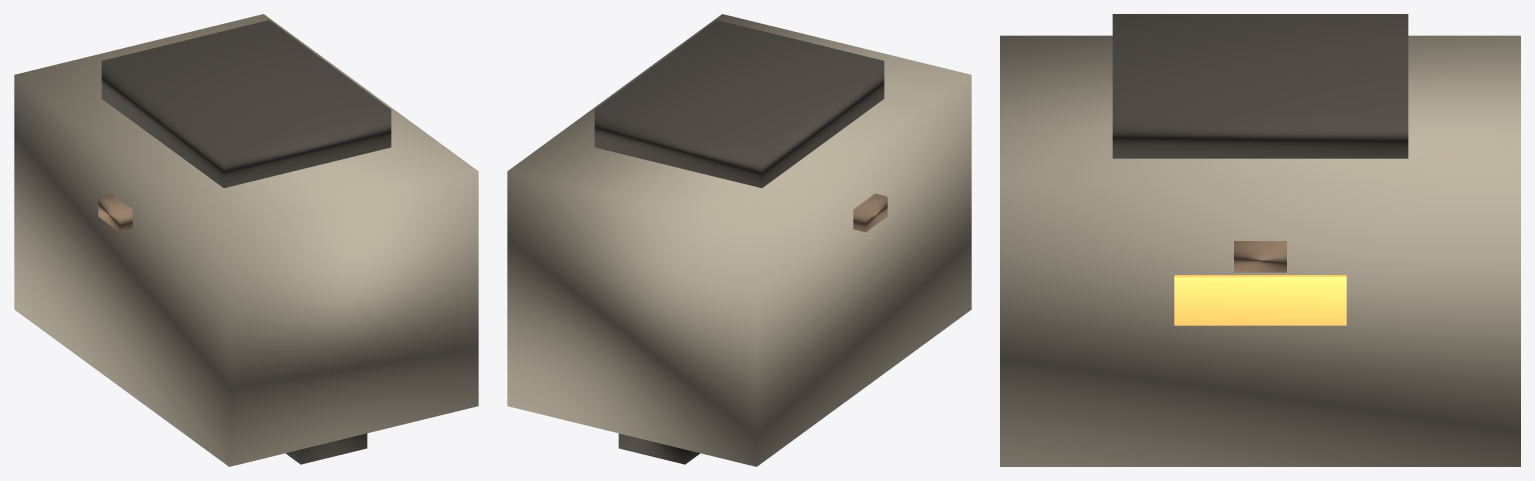
Rendered from jovian-harvester-ballast-pod-lod1.glb.
3 renders of one model, left to right at view 1: azimuth 30°, elevation 25°; view 2: azimuth 150°, elevation 25°; view 3: azimuth 270°, elevation 25°, orthographic. The views are drawn at different scales.
Visible parts, largest first — view 1: jovian-harvester-ballast-pod-shell, jovian-harvester-ballast-pod-mount, jovian-harvester-ballast-pod-keel, jovian-harvester-ballast-pod-strap; view 2: jovian-harvester-ballast-pod-shell, jovian-harvester-ballast-pod-mount, jovian-harvester-ballast-pod-keel, jovian-harvester-ballast-pod-strap; view 3: jovian-harvester-ballast-pod-shell, jovian-harvester-ballast-pod-mount, jovian-harvester-ballast-pod-marker, jovian-harvester-ballast-pod-strap.
Part boxes in pixels (x1,y1,x2,y2): jovian-harvester-ballast-pod-shell: (14, 14, 478, 466); jovian-harvester-ballast-pod-mount: (101, 20, 391, 187); jovian-harvester-ballast-pod-keel: (286, 433, 367, 464); jovian-harvester-ballast-pod-strap: (98, 193, 132, 232); jovian-harvester-ballast-pod-shell: (507, 14, 971, 466); jovian-harvester-ballast-pod-mount: (594, 20, 884, 187); jovian-harvester-ballast-pod-keel: (618, 433, 699, 464); jovian-harvester-ballast-pod-strap: (853, 193, 887, 232); jovian-harvester-ballast-pod-shell: (1000, 35, 1520, 466); jovian-harvester-ballast-pod-mount: (1112, 14, 1408, 158); jovian-harvester-ballast-pod-marker: (1174, 275, 1346, 325); jovian-harvester-ballast-pod-strap: (1234, 241, 1286, 272).
Bounding box in the file's own units: 1.74 × 1.86 × 2.36.
